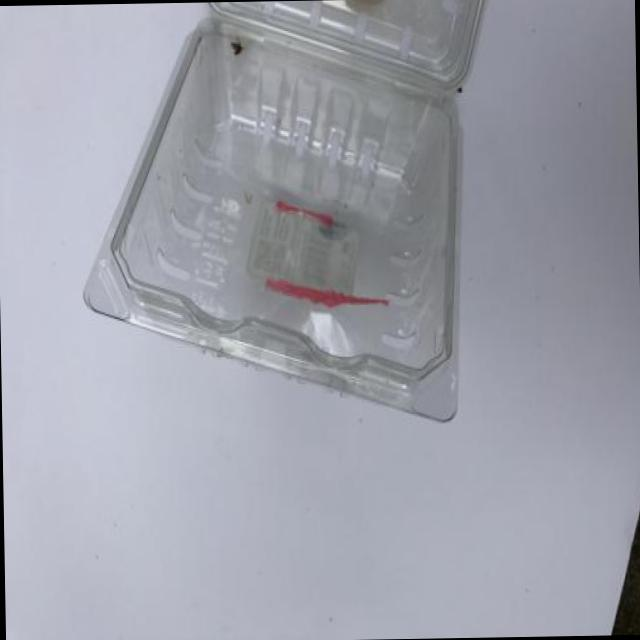Trash: (76, 0, 530, 431)
